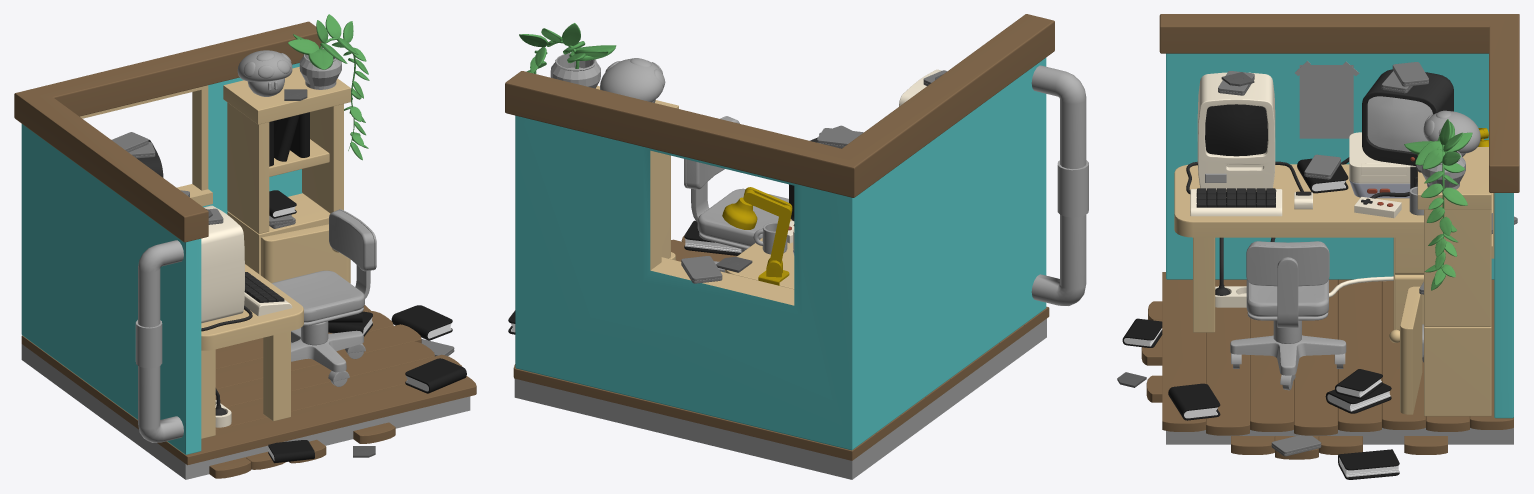
Rendered from GameRoom.fbx.
3 renders of one model, left to right at view 1: azimuth 30°, elevation 25°; view 2: azimuth 150°, elevation 25°; view 3: azimuth 270°, elevation 25°, orthographic. The views are drawn at different scales.
Visible parts, largest first — view 1: Wall, Trim, Plank01, Pipes, UnderFloor, BookCover (×6), ShelfSide1, Mac, ShelfDoor, Plank04, Plank07, Shelf2 (+18 smaller); view 2: Wall, Trim, UnderFloor, Pipes, Plank10, Cushion, Cap03, TableTop, Pot, ShelfSide1, Plank07, LampShade (+3 smaller); view 3: Wall, Trim, TableTop, Mac, ShelfSide2, Shelf1, Plank01, Plank07, Plank05, BookCover (×5), Plank08, Poster (+31 smaller).
Part boxes in pixels (box(x1,y1,x2,y2)): Wall: box(21, 63, 302, 454); Trim: box(14, 21, 322, 242); Plank01: box(166, 376, 476, 465); Pipes: box(135, 240, 183, 442); UnderFloor: box(21, 344, 470, 479); BookCover (×6): box(269, 112, 466, 393); ShelfSide1: box(227, 102, 269, 233); Mac: box(201, 205, 244, 323); ShelfDoor: box(261, 224, 350, 283); Plank04: box(125, 341, 434, 429); Plank07: box(157, 354, 461, 449); Shelf2: box(223, 67, 350, 124); Wall: box(515, 58, 1046, 450); Trim: box(505, 14, 1054, 197); UnderFloor: box(514, 318, 1046, 479); Pipes: box(1031, 65, 1088, 305); Plank10: box(513, 364, 876, 460); Cushion: box(697, 188, 788, 246); Cap03: box(600, 58, 664, 102); TableTop: box(725, 219, 794, 289); Pot: box(550, 53, 600, 88); ShelfSide1: box(661, 153, 670, 258); Plank07: box(671, 239, 1024, 352); LampShade: box(722, 197, 757, 229); Wall: box(1166, 53, 1513, 418); Trim: box(1159, 14, 1519, 192); TableTop: box(1174, 164, 1423, 237); Mac: box(1197, 72, 1275, 188); ShelfSide2: box(1424, 209, 1491, 326); Shelf1: box(1424, 326, 1491, 416); Plank01: box(1162, 272, 1205, 431); Plank07: box(1206, 279, 1249, 435); Plank05: box(1338, 279, 1381, 431); BookCover (×5): box(1168, 158, 1399, 479); Plank08: box(1294, 279, 1337, 435); Poster: box(1299, 65, 1353, 138).
Bounding box in the file's own units: 11.08 × 8.01 × 9.25.
